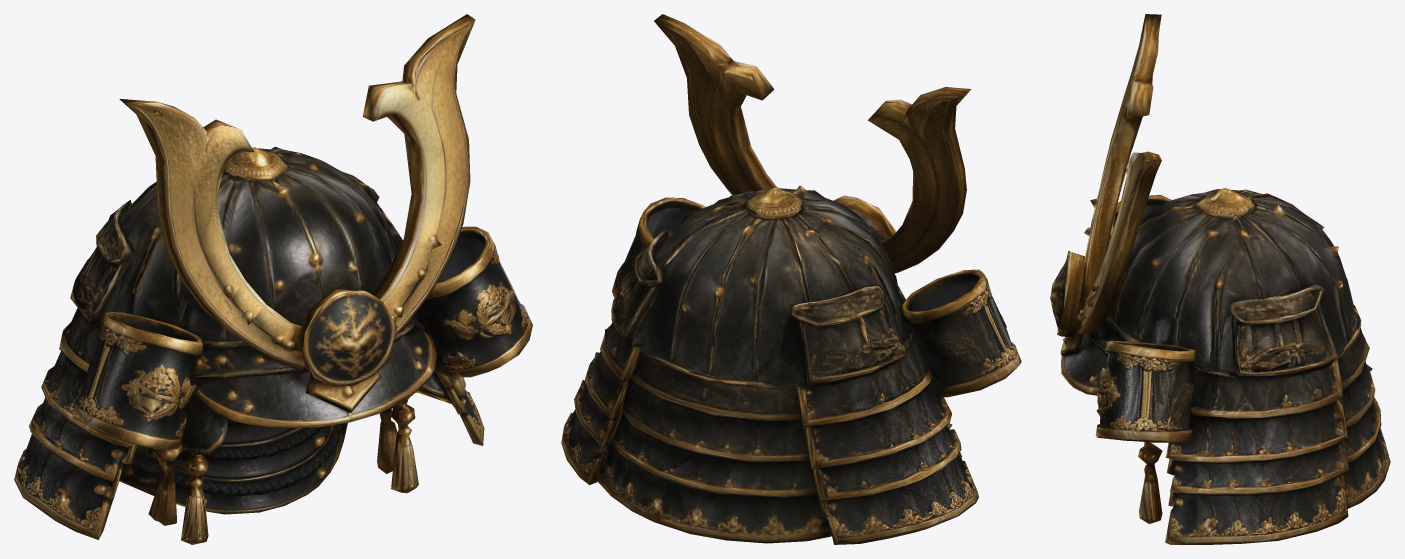
The model's file is new-nemesis-helmet.glb.
The picture shows the model from 3 angles, left to right: view 1: azimuth 30°, elevation 25°; view 2: azimuth 150°, elevation 25°; view 3: azimuth 270°, elevation 25°; orthographic projection. The views are drawn at different scales.
Visible parts, largest first — view 1: tripo_part_0, tripo_part_2, tripo_part_7, tripo_part_8, tripo_part_1, tripo_part_5, tripo_part_6, tripo_part_10, tripo_part_4, tripo_part_9, tripo_part_14, tripo_part_11 (+1 smaller); view 2: tripo_part_0, tripo_part_2, tripo_part_8, tripo_part_7, tripo_part_1, tripo_part_14, tripo_part_6; view 3: tripo_part_0, tripo_part_1, tripo_part_8, tripo_part_7, tripo_part_6, tripo_part_5, tripo_part_9, tripo_part_14, tripo_part_2.
Part boxes in pixels (x1,y1,x2,y2): tripo_part_0: (70,146,425,514); tripo_part_2: (14,308,202,539); tripo_part_7: (362,14,475,336); tripo_part_8: (119,99,305,368); tripo_part_1: (415,226,532,445); tripo_part_5: (191,326,437,427); tripo_part_6: (298,288,397,412); tripo_part_10: (181,393,227,455); tripo_part_4: (181,453,209,544); tripo_part_9: (391,394,418,493); tripo_part_14: (224,147,294,182); tripo_part_11: (148,445,184,525); tripo_part_0: (597,185,913,543); tripo_part_2: (796,269,1021,544); tripo_part_8: (867,87,971,273); tripo_part_7: (654,14,776,195); tripo_part_1: (561,197,705,484); tripo_part_14: (725,187,802,218); tripo_part_6: (833,195,896,240); tripo_part_0: (1090,189,1390,508); tripo_part_1: (1095,324,1349,544); tripo_part_8: (1080,14,1161,305); tripo_part_7: (1077,151,1161,333); tripo_part_6: (1050,250,1084,357); tripo_part_5: (1061,333,1107,395); tripo_part_9: (1138,442,1162,523); tripo_part_14: (1193,188,1253,229); tripo_part_2: (1106,195,1171,250).
Size of the model in its own units: 0.9653 by 0.9802 by 0.7475.
Materials: 1 (1 with a texture image).
